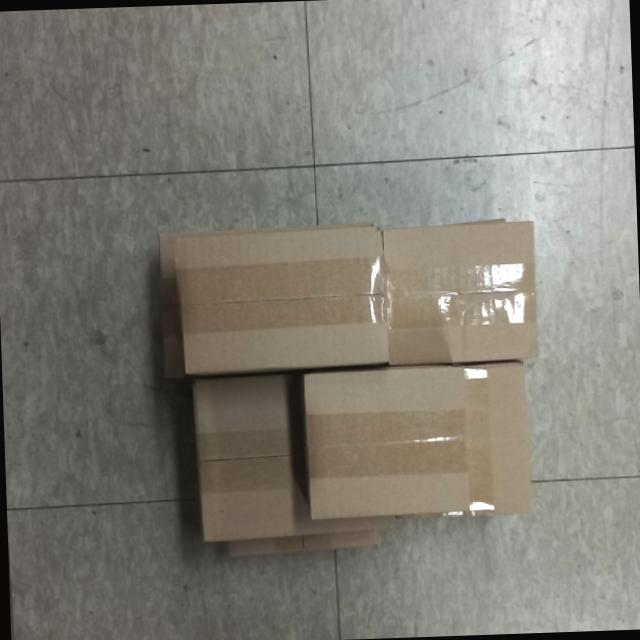box: (166, 222, 396, 376), (292, 360, 480, 525), (378, 218, 544, 368)
